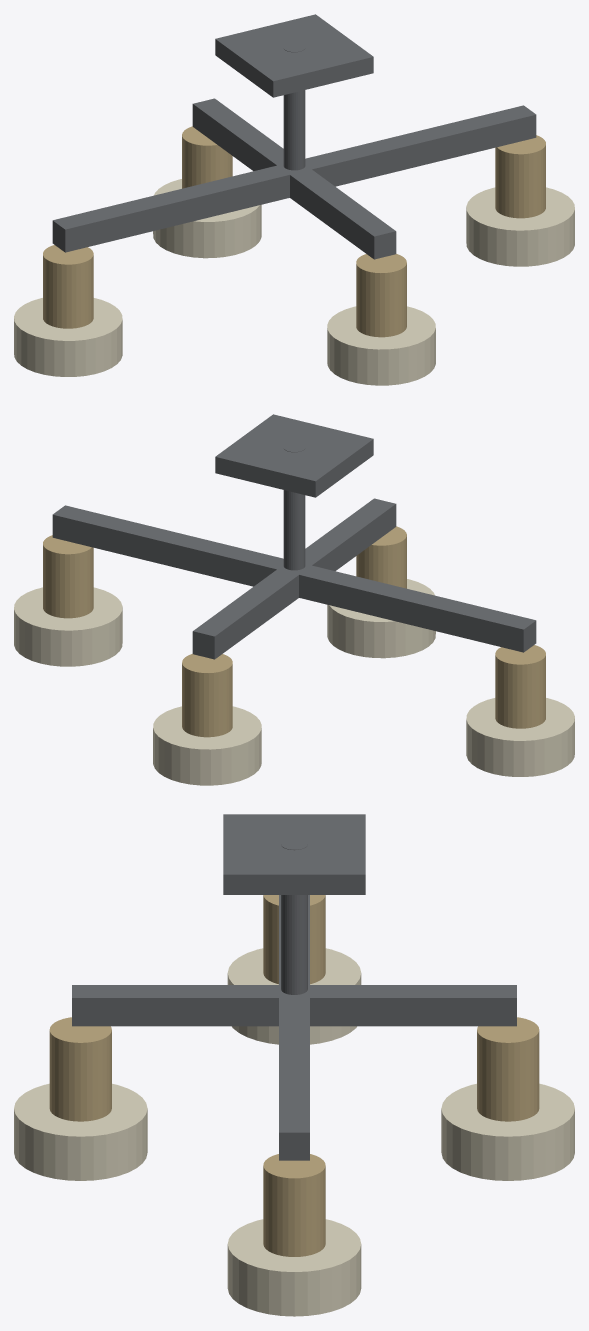
The model's file is chandelier-branch.glb.
3 views of the same model, one above another, from view 1: azimuth 30°, elevation 25°; view 2: azimuth 150°, elevation 25°; view 3: azimuth 270°, elevation 25° (orthographic). The views are drawn at different scales.
Parts seen in each view (by area): view 1: chandelier-branch-0, chandelier-branch-3, chandelier-branch-1, chandelier-branch-11, chandelier-branch-7, chandelier-branch-5, chandelier-branch-9, chandelier-branch-10, chandelier-branch-4, chandelier-branch-6, chandelier-branch-8, chandelier-branch-2; view 2: chandelier-branch-0, chandelier-branch-3, chandelier-branch-1, chandelier-branch-9, chandelier-branch-7, chandelier-branch-5, chandelier-branch-11, chandelier-branch-8, chandelier-branch-4, chandelier-branch-6, chandelier-branch-10, chandelier-branch-2; view 3: chandelier-branch-1, chandelier-branch-3, chandelier-branch-7, chandelier-branch-9, chandelier-branch-11, chandelier-branch-6, chandelier-branch-8, chandelier-branch-10, chandelier-branch-0, chandelier-branch-5, chandelier-branch-2, chandelier-branch-4.
Boxes of the visible parts, <box> form: chandelier-branch-0: <box>52,105,536,252</box>; chandelier-branch-3: <box>215,14,373,97</box>; chandelier-branch-1: <box>192,98,396,259</box>; chandelier-branch-11: <box>327,306,435,385</box>; chandelier-branch-7: <box>466,187,574,266</box>; chandelier-branch-5: <box>14,298,122,376</box>; chandelier-branch-9: <box>153,179,261,258</box>; chandelier-branch-10: <box>356,254,406,337</box>; chandelier-branch-4: <box>43,245,93,328</box>; chandelier-branch-6: <box>495,135,545,218</box>; chandelier-branch-8: <box>182,126,232,188</box>; chandelier-branch-2: <box>283,43,305,170</box>; chandelier-branch-0: <box>52,505,536,652</box>; chandelier-branch-3: <box>215,414,373,497</box>; chandelier-branch-1: <box>192,498,396,659</box>; chandelier-branch-9: <box>153,706,261,785</box>; chandelier-branch-7: <box>14,587,122,666</box>; chandelier-branch-5: <box>466,698,574,776</box>; chandelier-branch-11: <box>327,579,435,658</box>; chandelier-branch-8: <box>182,654,232,737</box>; chandelier-branch-4: <box>495,645,545,728</box>; chandelier-branch-6: <box>43,535,93,618</box>; chandelier-branch-10: <box>356,526,406,588</box>; chandelier-branch-2: <box>283,443,305,570</box>; chandelier-branch-1: <box>72,985,516,1026</box>; chandelier-branch-3: <box>223,814,365,894</box>; chandelier-branch-7: <box>227,1219,361,1316</box>; chandelier-branch-9: <box>441,1083,574,1180</box>; chandelier-branch-11: <box>14,1083,147,1180</box>; chandelier-branch-6: <box>263,1154,325,1256</box>; chandelier-branch-8: <box>477,1017,539,1121</box>; chandelier-branch-10: <box>49,1017,111,1121</box>; chandelier-branch-0: <box>279,895,309,1160</box>; chandelier-branch-5: <box>227,948,361,1044</box>; chandelier-branch-2: <box>281,838,307,994</box>; chandelier-branch-4: <box>263,895,325,984</box>.
Size of the model in its own units: 0.87 by 0.3825 by 0.63.
